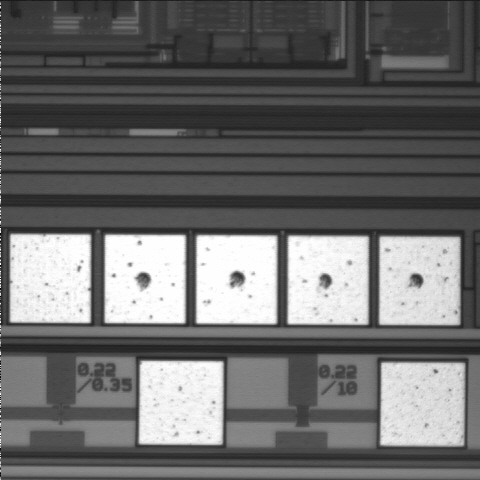pad: (10, 234, 91, 323), (196, 235, 277, 324), (105, 235, 186, 323), (379, 237, 460, 325), (288, 236, 368, 325), (139, 361, 223, 445), (380, 363, 464, 446)
